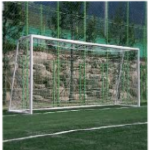goals: (7, 32, 142, 116)
